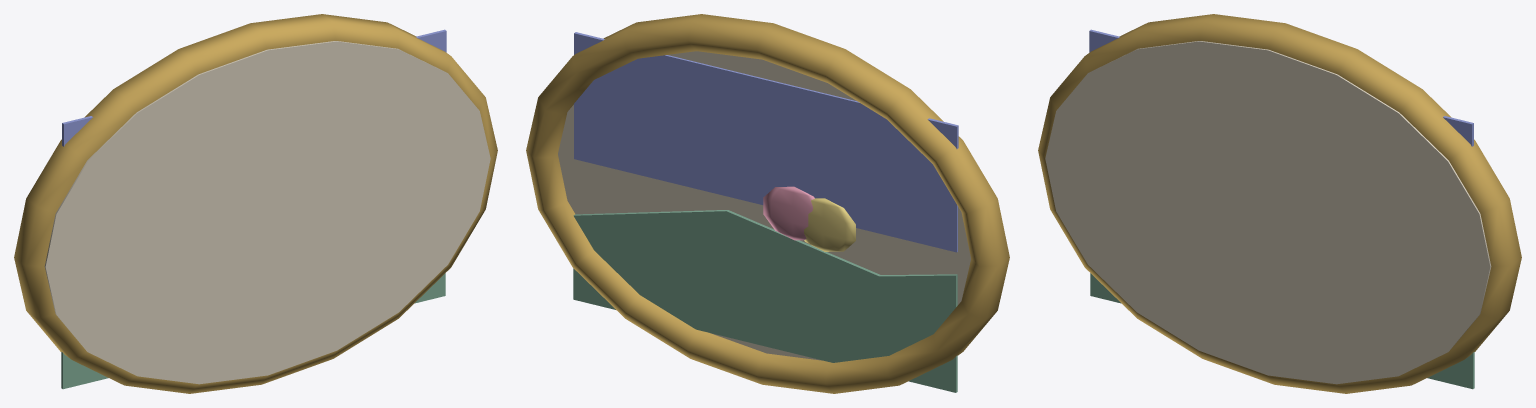
File: painting_small.glb
3 renders of one model, left to right at view 1: azimuth 30°, elevation 25°; view 2: azimuth 150°, elevation 25°; view 3: azimuth 330°, elevation 25°, orthographic.
Parts seen in each view (by area): view 1: painting_small; view 2: painting_small; view 3: painting_small.
Boxes of the visible parts, x1,y1,x2,y2 form: painting_small: (14,14,497,393); painting_small: (526,14,1009,393); painting_small: (1038,14,1521,393).
Size of what is drawn, in the model's own units: 0.7 by 0.5 by 0.06.
